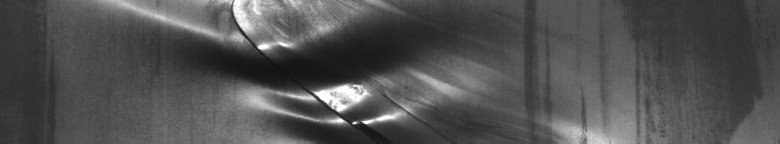ke: (143, 4, 436, 132)
